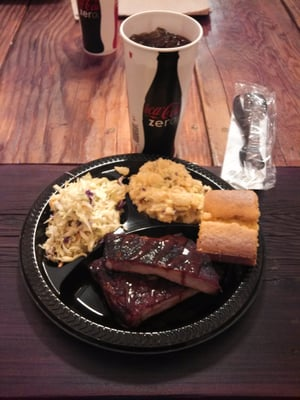pizza: (118, 9, 204, 159)
sandwich: (173, 157, 236, 191)
